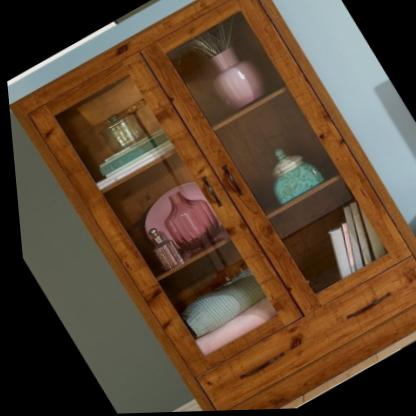Cupboard: (1, 0, 416, 416)
